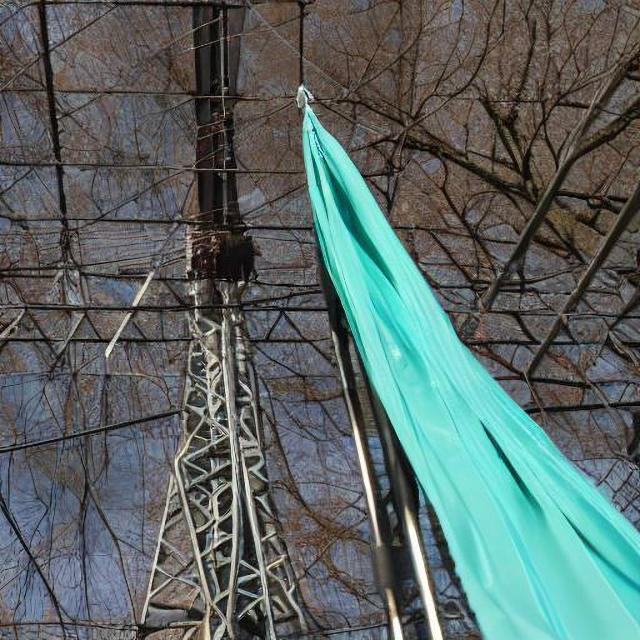floating object: (294, 67, 638, 635)
